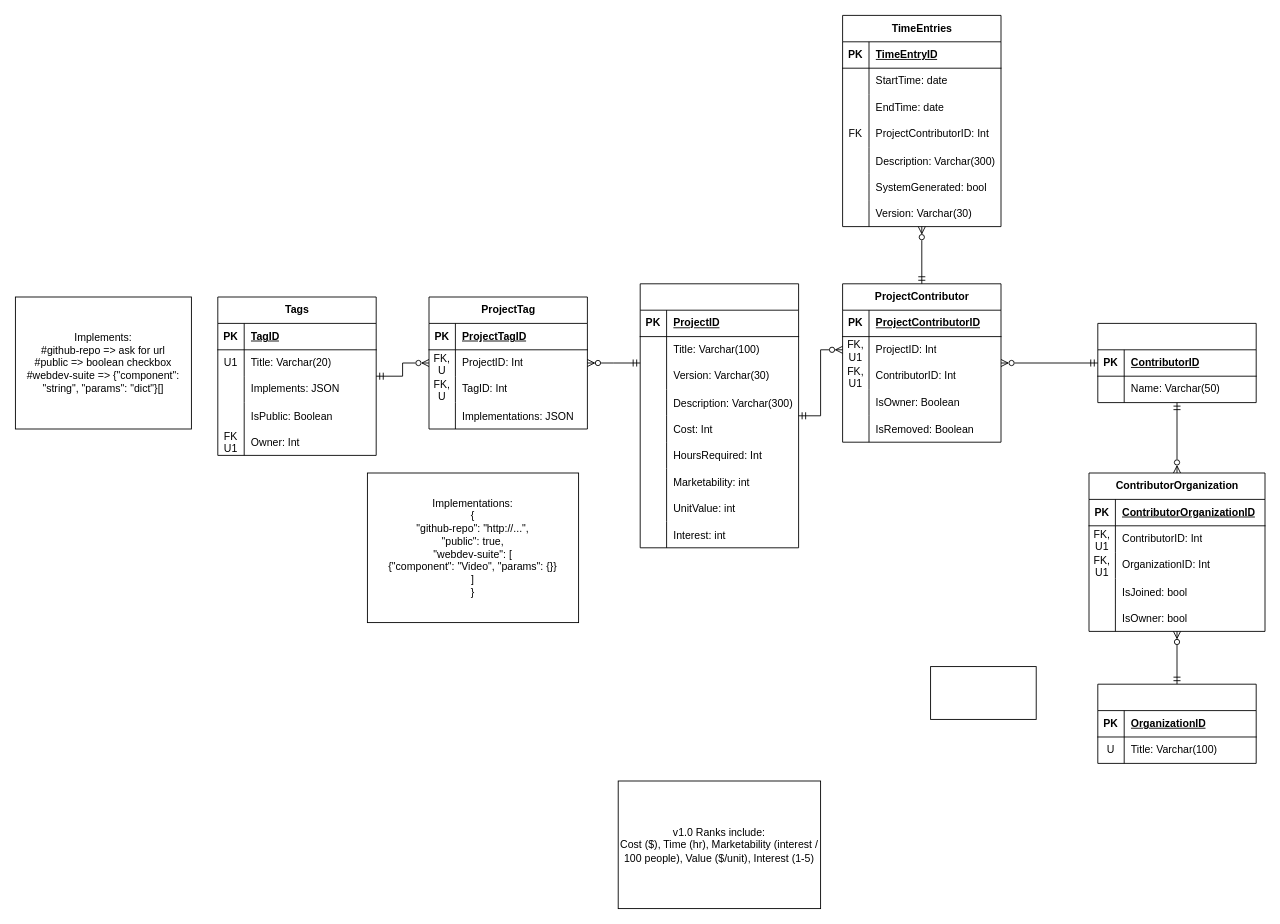
This 1280x924 diagram has some shape labels left out. The shapes that lost their labels are listed below. From the top down, each one's box as (x1, y1, x2, y2) in pixels, then its label:
(1097, 323, 1256, 403): Contributors
(639, 283, 799, 548): Projects
(930, 666, 1036, 719): Orgs can own projects in future
(1097, 683, 1256, 763): Organizations
